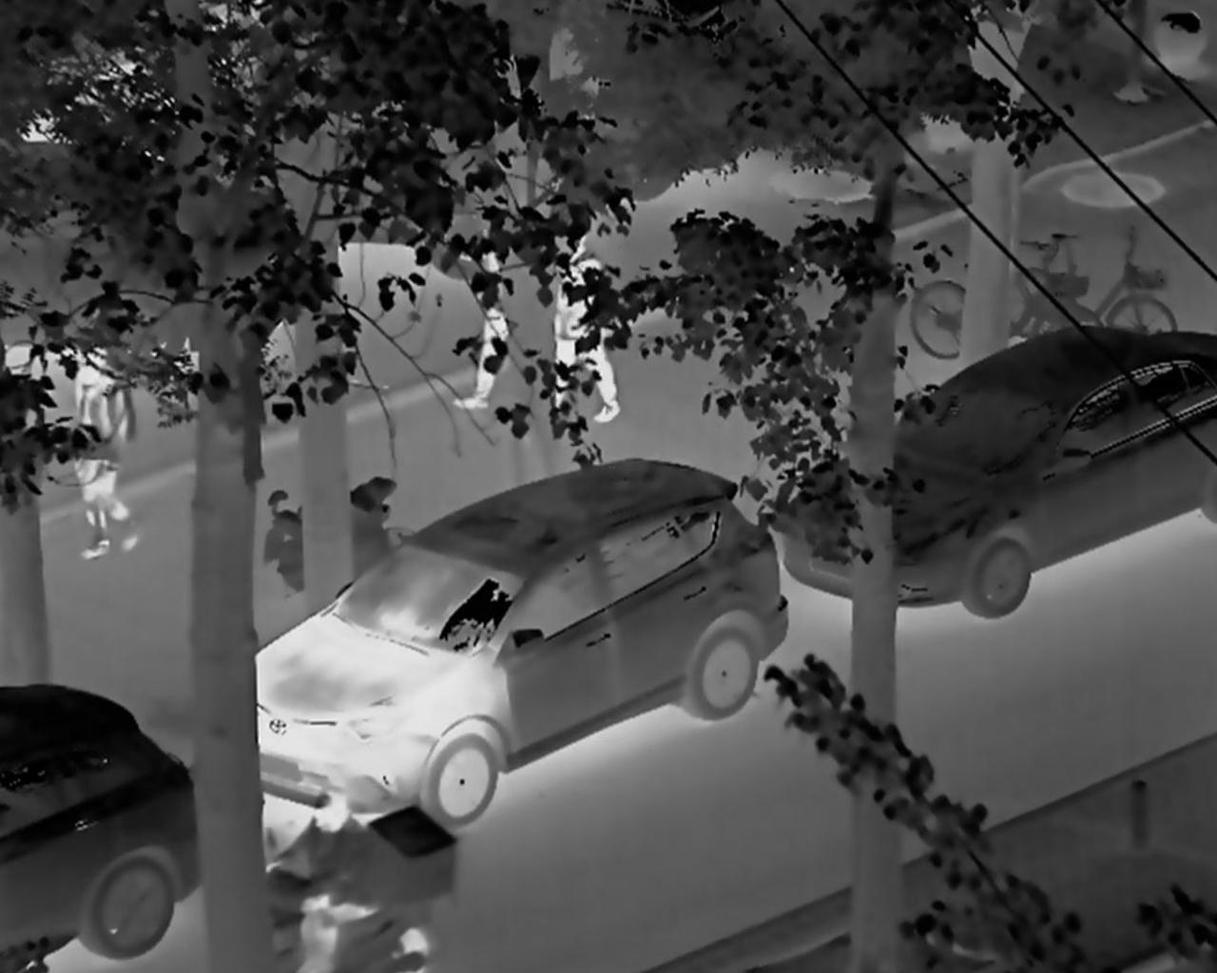person: (62, 327, 162, 570), (547, 223, 637, 434), (443, 195, 524, 422)
